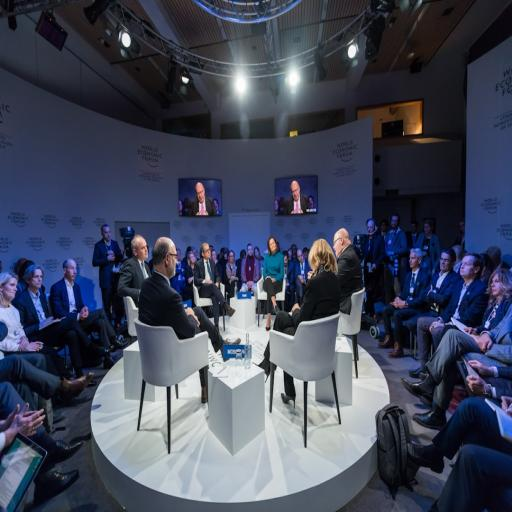face: (0, 278, 17, 302), (460, 256, 477, 279), (27, 269, 43, 291), (133, 238, 148, 260), (167, 246, 177, 278), (64, 261, 76, 282), (491, 275, 502, 297), (440, 253, 452, 273), (333, 235, 343, 258), (409, 252, 420, 270), (102, 227, 110, 243), (202, 246, 210, 260), (269, 238, 276, 253)
